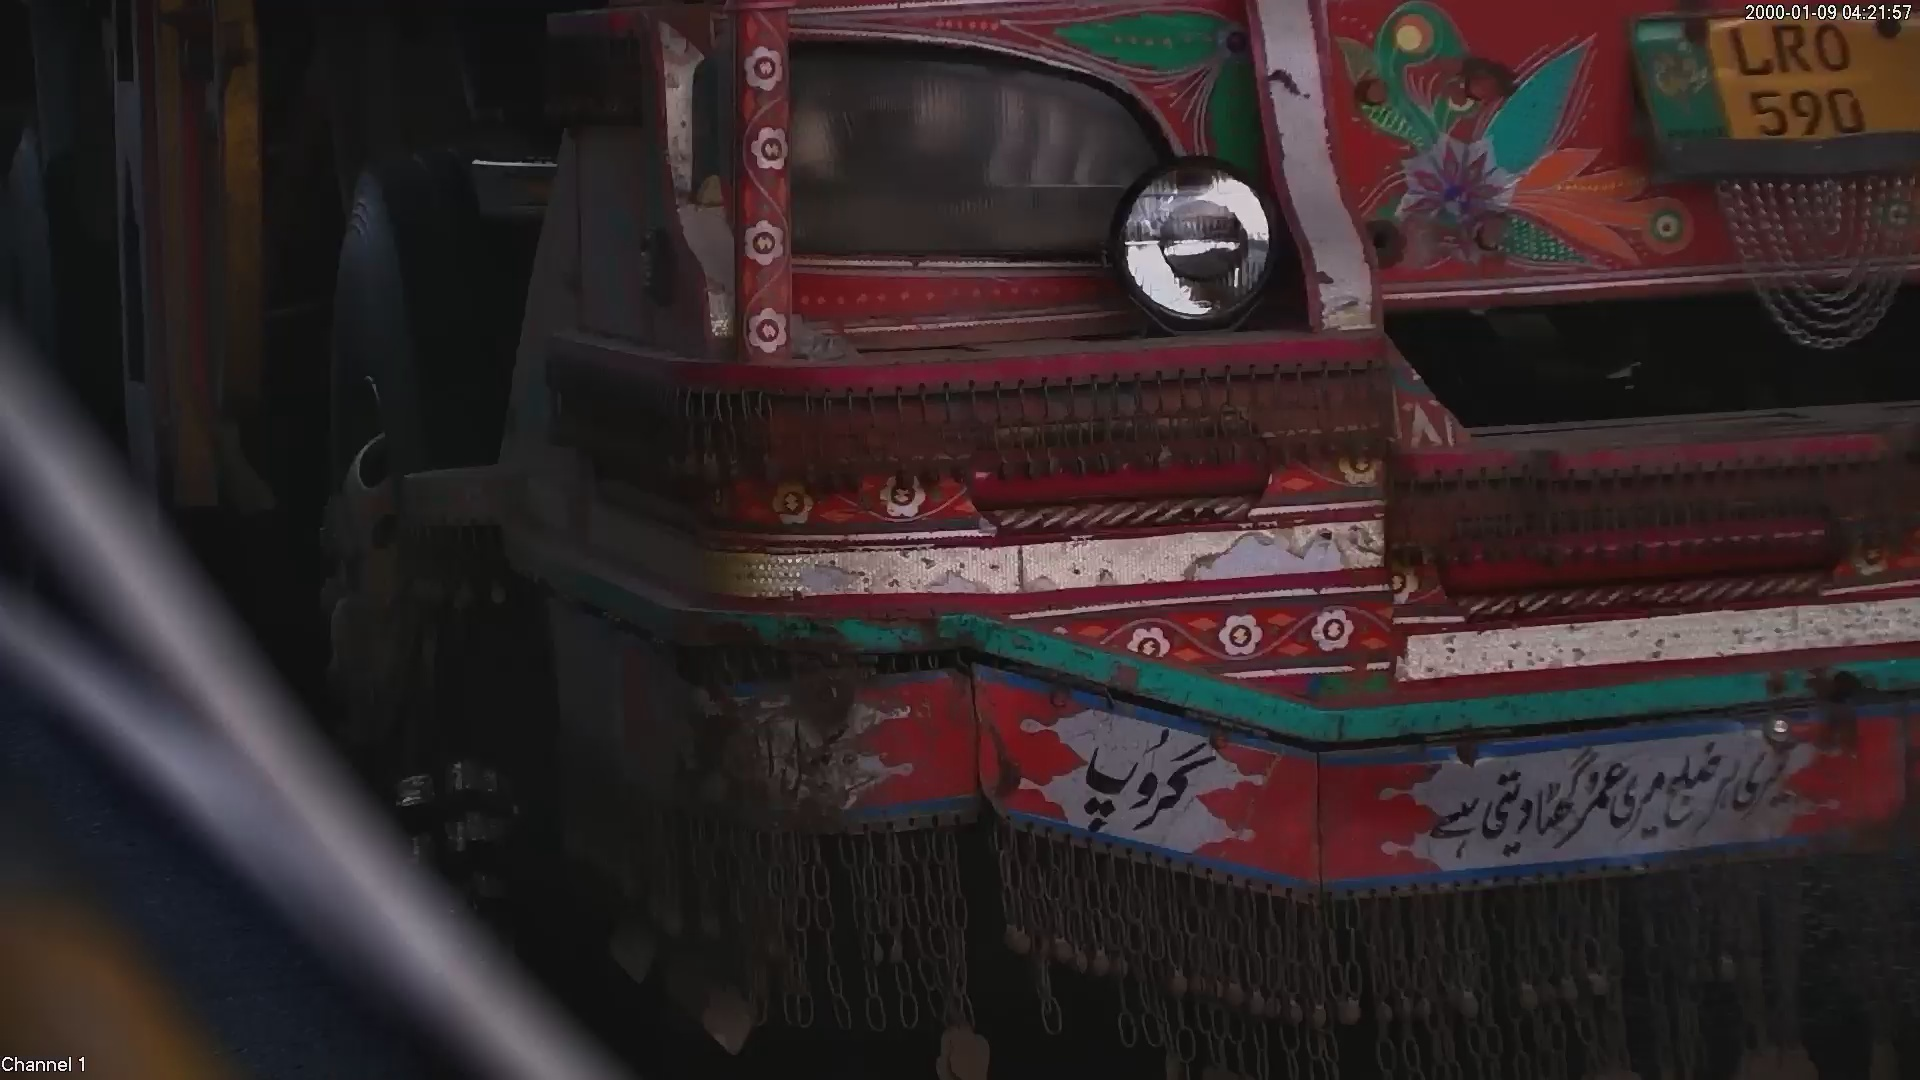Number_Plate: (1626, 7, 1915, 170)
Undefined: (726, 44, 1291, 342), (1402, 742, 1815, 853), (1030, 709, 1234, 844)
